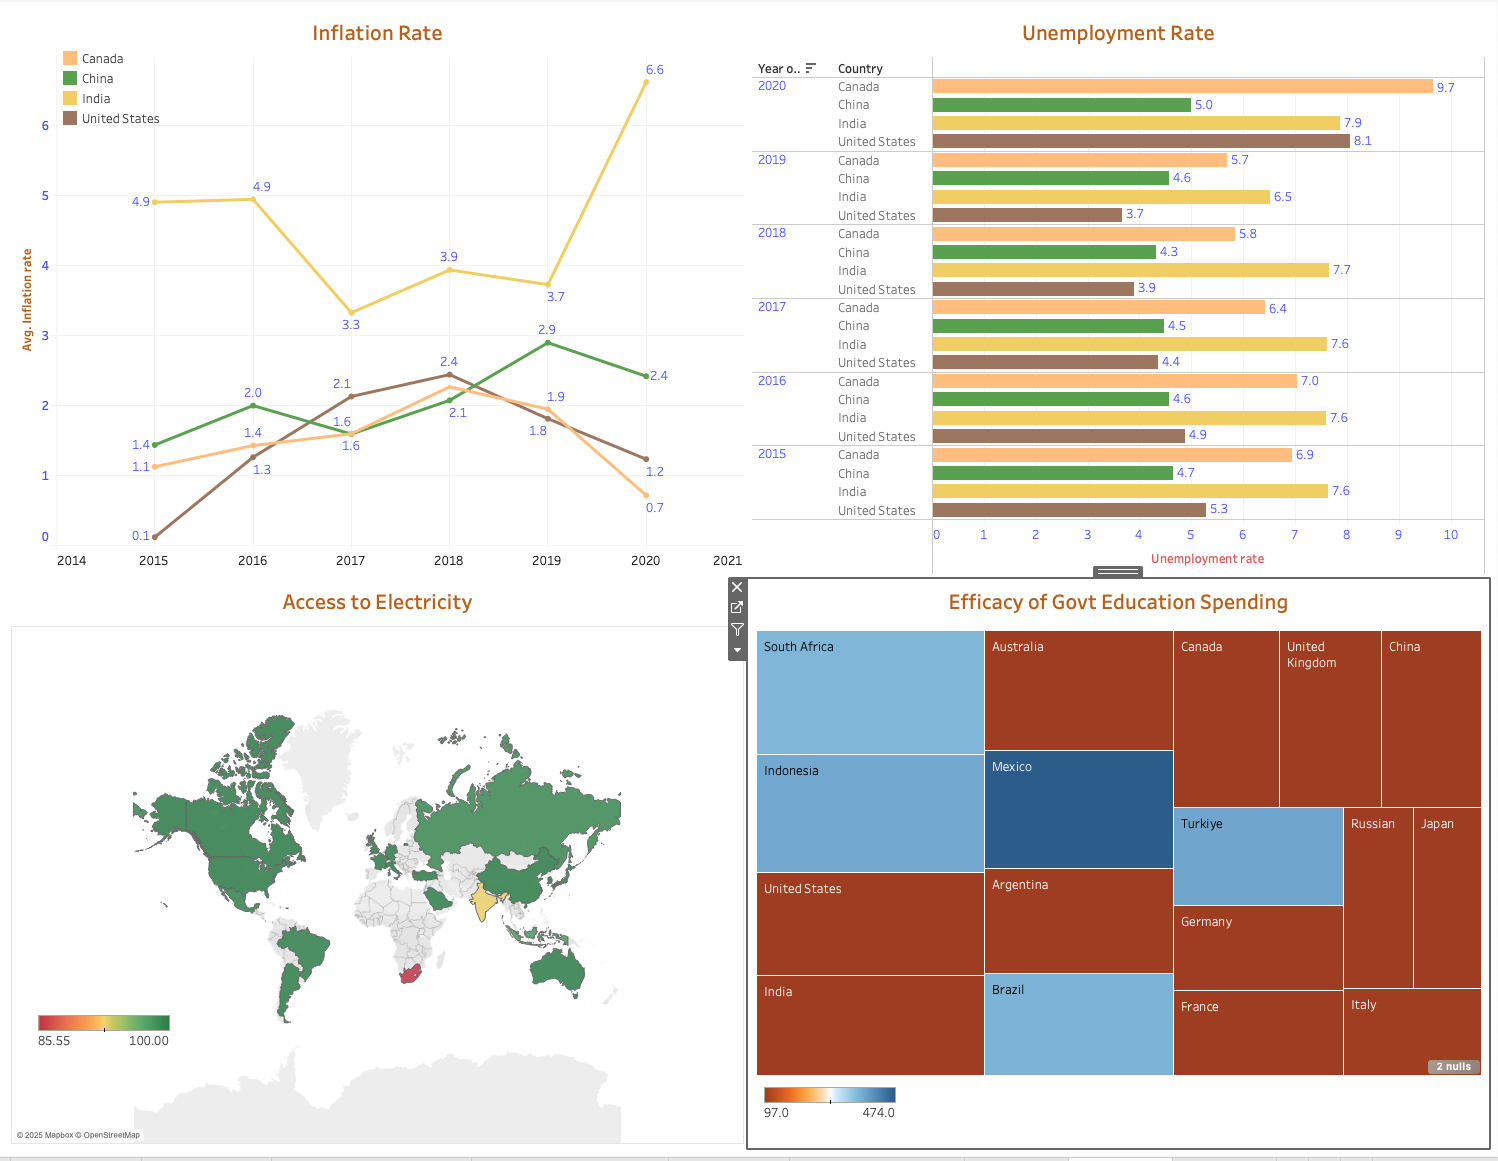

What the dashboard file says about the page in this screenshot:
{"tool":"tableau","page":{"name":"Dashboard 1","canvas":[1000,1000],"units":"permille","ordinal":0},"visuals":[{"type":"worksheet","title":"Inflation Rate","mark":"Automatic","rows":["Inflation rate"],"cols":["year_o"],"box":[5.3,6.9,494.7,493.1]},{"type":"worksheet","title":"Unemployment Rate","mark":"Bar","rows":["date","country"],"cols":["Unemployment rate"],"box":[500,6.9,494.7,493.1]},{"type":"legend","title":"Inflation Rate","param":"[federated.1namhqv1uk0m0j10i0sdj09imuin].[none:country:nk]","box":[40.8,39.9,93.5,69.3]},{"type":"worksheet","title":"Access to Electricity","mark":"Automatic","box":[5.3,500,494.7,493.1]},{"type":"worksheet","title":"Efficacy of Govt Education Spending","mark":"Automatic","box":[500,500,494.7,493.1]},{"type":"legend","title":"Access to Electricity","param":"[federated.1namhqv1uk0m0j10i0sdj09imuin].[avg:Access to electricity:qk]","box":[23.4,874.4,93.5,33.8]},{"type":"legend","title":"Efficacy of Govt Education Spending","param":"[federated.1namhqv1uk0m0j10i0sdj09imuin].[sum:Literacy rate:qk]","box":[507.7,936.7,93.5,33.8]}]}

Visuals, with their boxes on the dashboard's canvas, which has no fixed pixel size, in thousandths of its width and height (x1, y1, x2, y2). These are canvas units, not pixel positions in the 1498x1161 screenshot, which may show the page scaled, cropped or inside an application window:
"Inflation Rate" worksheet: region(5, 7, 500, 500)
"Unemployment Rate" worksheet (Bar marks): region(500, 7, 995, 500)
"Inflation Rate" legend: region(41, 40, 134, 109)
"Access to Electricity" worksheet: region(5, 500, 500, 993)
"Efficacy of Govt Education Spending" worksheet: region(500, 500, 995, 993)
"Access to Electricity" legend: region(23, 874, 117, 908)
"Efficacy of Govt Education Spending" legend: region(508, 937, 601, 970)
